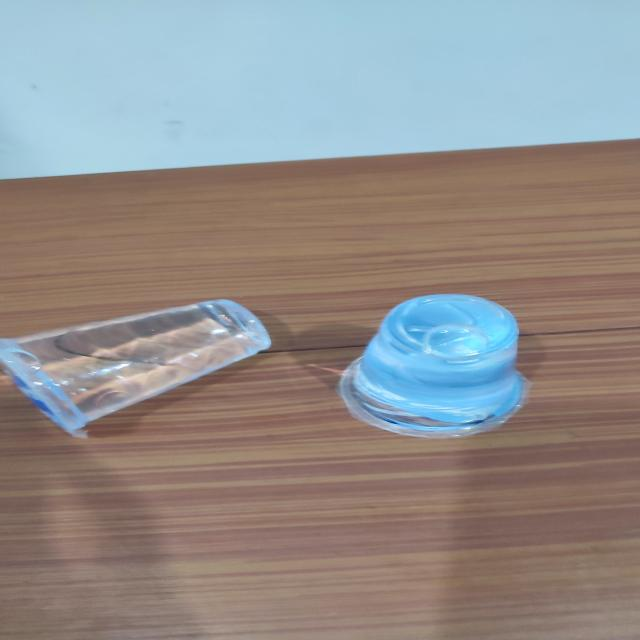air gelas: (1, 296, 285, 436), (335, 287, 547, 447)
